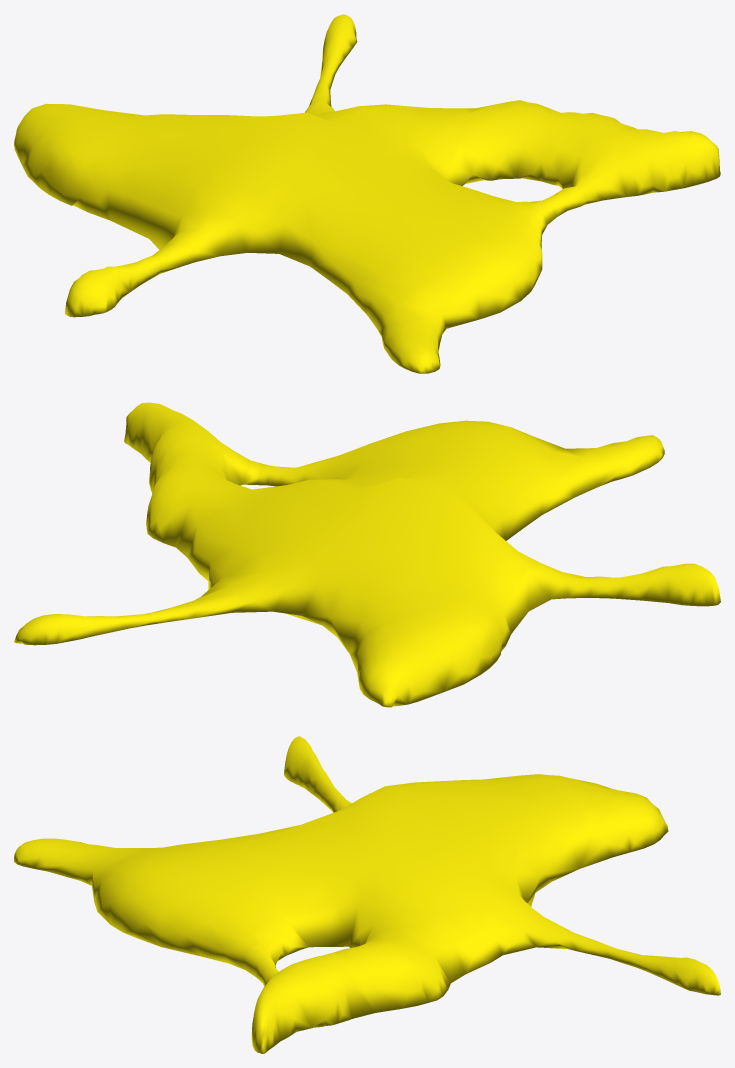
Rendered from puddle-1.glb.
3 views of the same model, one above another, from view 1: azimuth 30°, elevation 25°; view 2: azimuth 150°, elevation 25°; view 3: azimuth 270°, elevation 25° (orthographic). The views are drawn at different scales.
Visible parts, largest first — view 1: CurveFluidGround1; view 2: CurveFluidGround1; view 3: CurveFluidGround1.
Boxes of the visible parts, x1,y1,x2,y2 form: CurveFluidGround1: (14,14,720,373); CurveFluidGround1: (14,402,720,707); CurveFluidGround1: (14,736,720,1053).
Bounding box in the file's own units: 0.4963 × 0.0689 × 0.5062.
